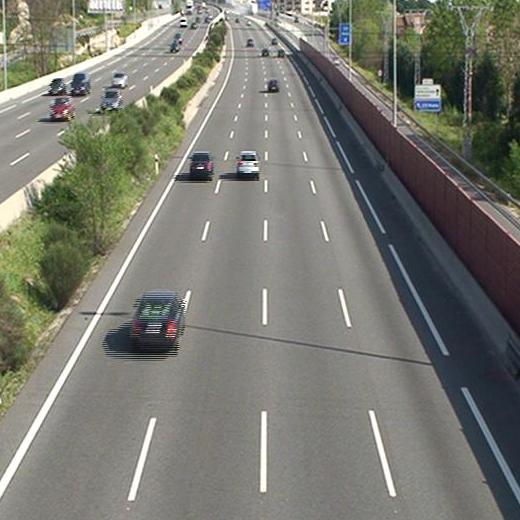car: (131, 291, 182, 353), (236, 150, 260, 177), (190, 152, 213, 178), (268, 80, 279, 92)
